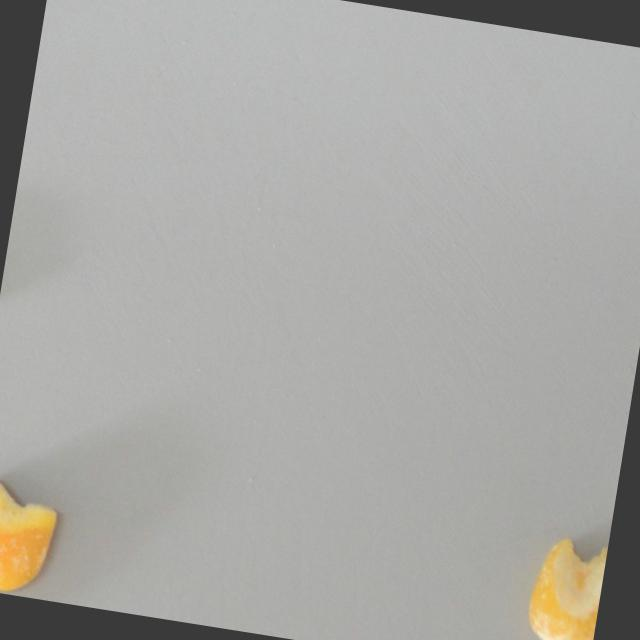pelicula: (522, 531, 608, 640), (0, 476, 63, 596)
